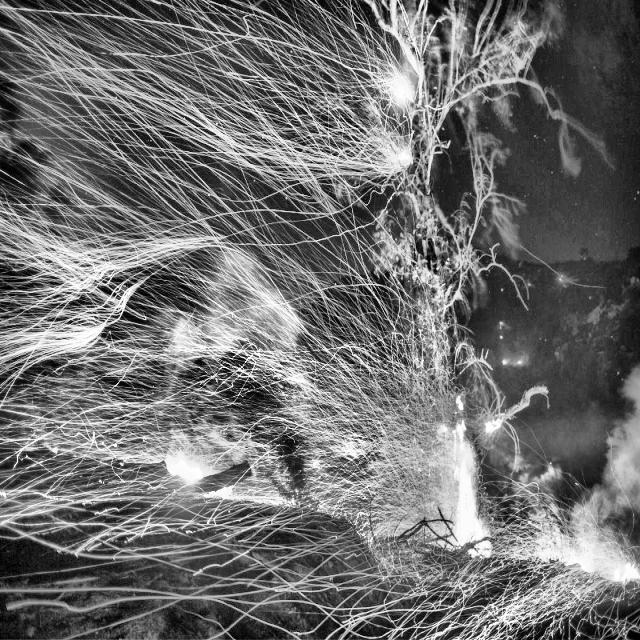fire: (345, 12, 459, 258), (441, 428, 569, 612), (122, 396, 233, 566)
